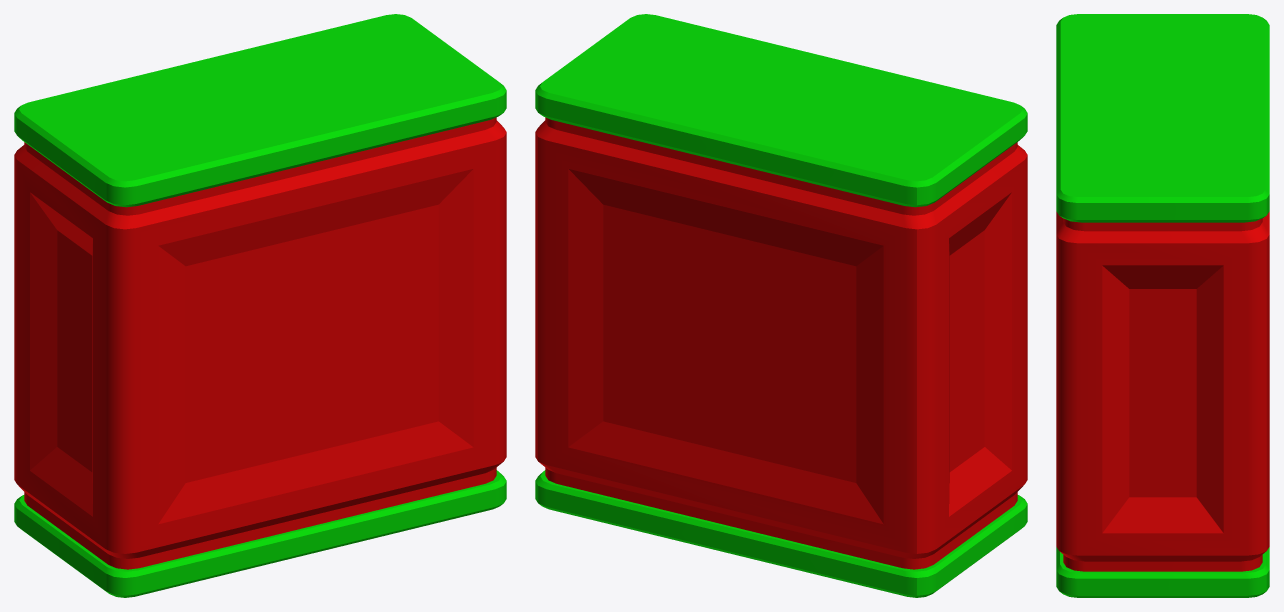
Rendered from Sm_ValveRoom_Box.fbx.
The picture shows the model from 3 angles, left to right: view 1: azimuth 30°, elevation 25°; view 2: azimuth 150°, elevation 25°; view 3: azimuth 270°, elevation 25°; orthographic projection. The views are drawn at different scales.
Parts seen in each view (by area): view 1: SM_ValveRoom_Box; view 2: SM_ValveRoom_Box; view 3: SM_ValveRoom_Box.
Boxes of the visible parts, left/top/right/bottom form: SM_ValveRoom_Box: left=14, top=14, right=506, bottom=597; SM_ValveRoom_Box: left=535, top=14, right=1027, bottom=597; SM_ValveRoom_Box: left=1056, top=14, right=1269, bottom=597.
Size of the model in its own units: 200 by 200 by 96.5.
